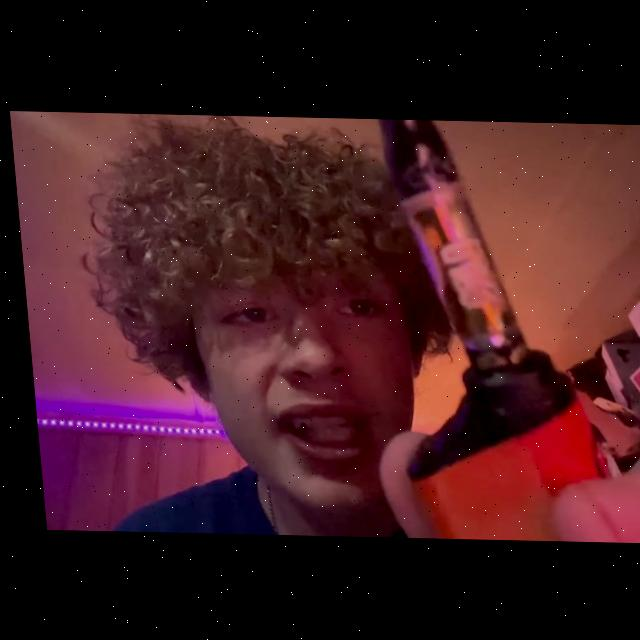vape: (370, 117, 609, 539)
